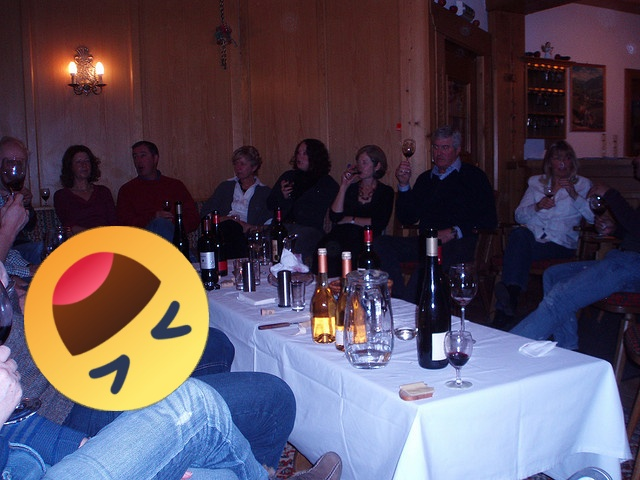haha: (24, 226, 209, 411)
